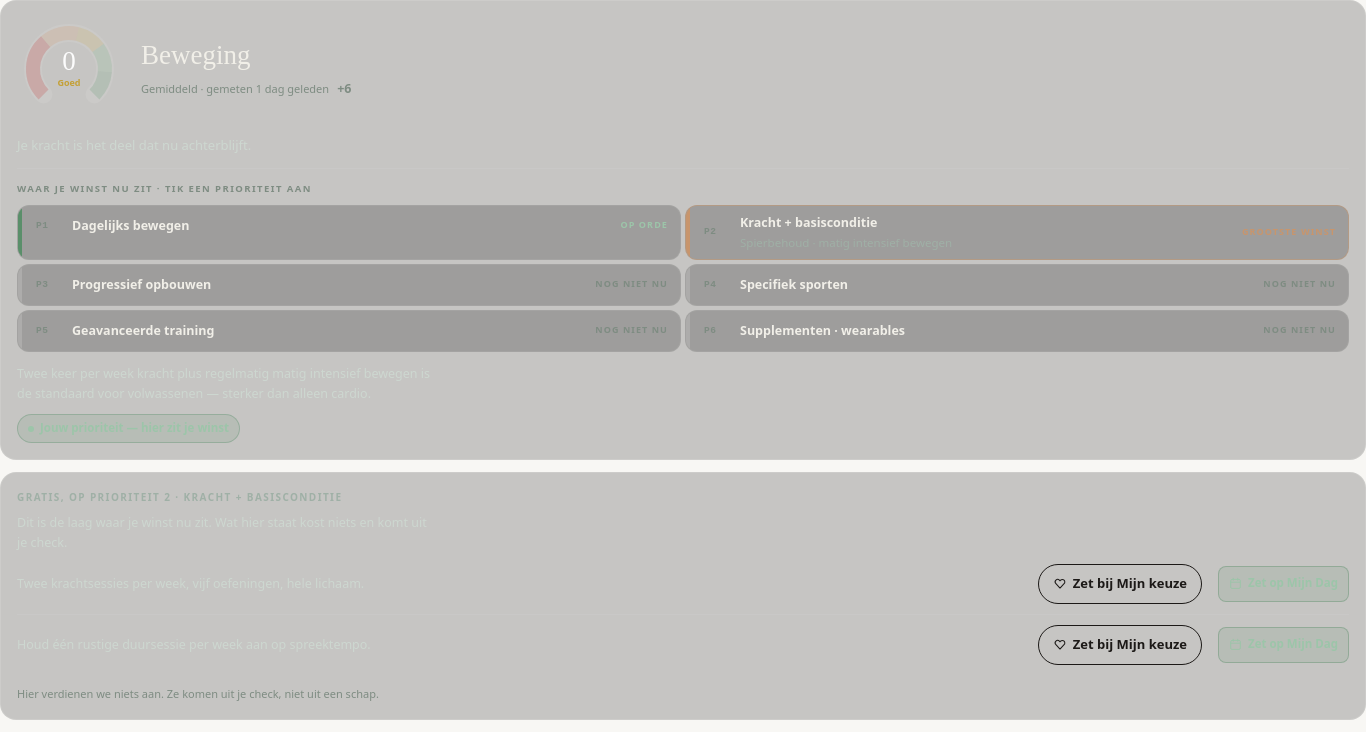
Test case: Contextkolom — zone 2: wat jij hier koos › toont alleen de keuzes van de laag die je leest
The image size is (1366, 732).
Click the 1st button "Zet bij Mijn keuze" at (1120, 584), box 1038,564 -> 1202,604
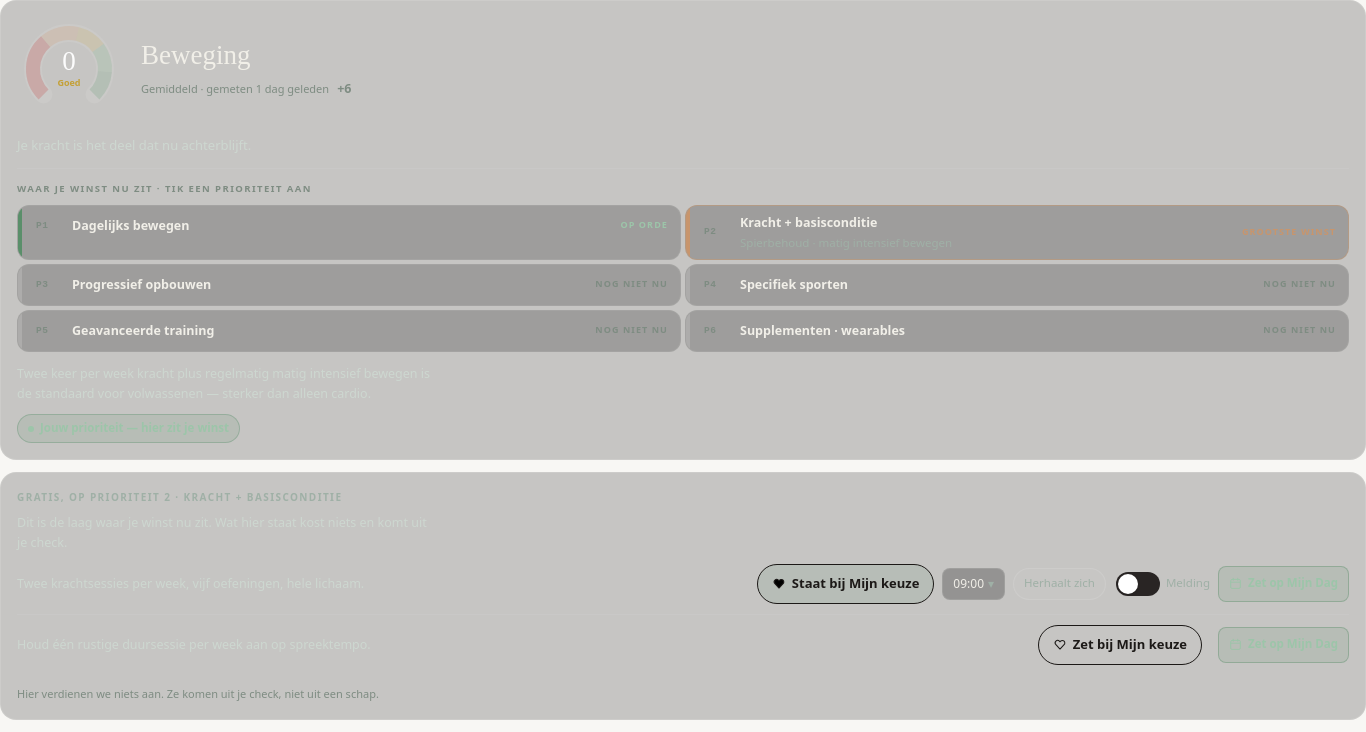
Click the button "P4 Specifiek sporten Nog niet nu" at (794, 284), box 686,265 -> 1348,305
(page scrolled)
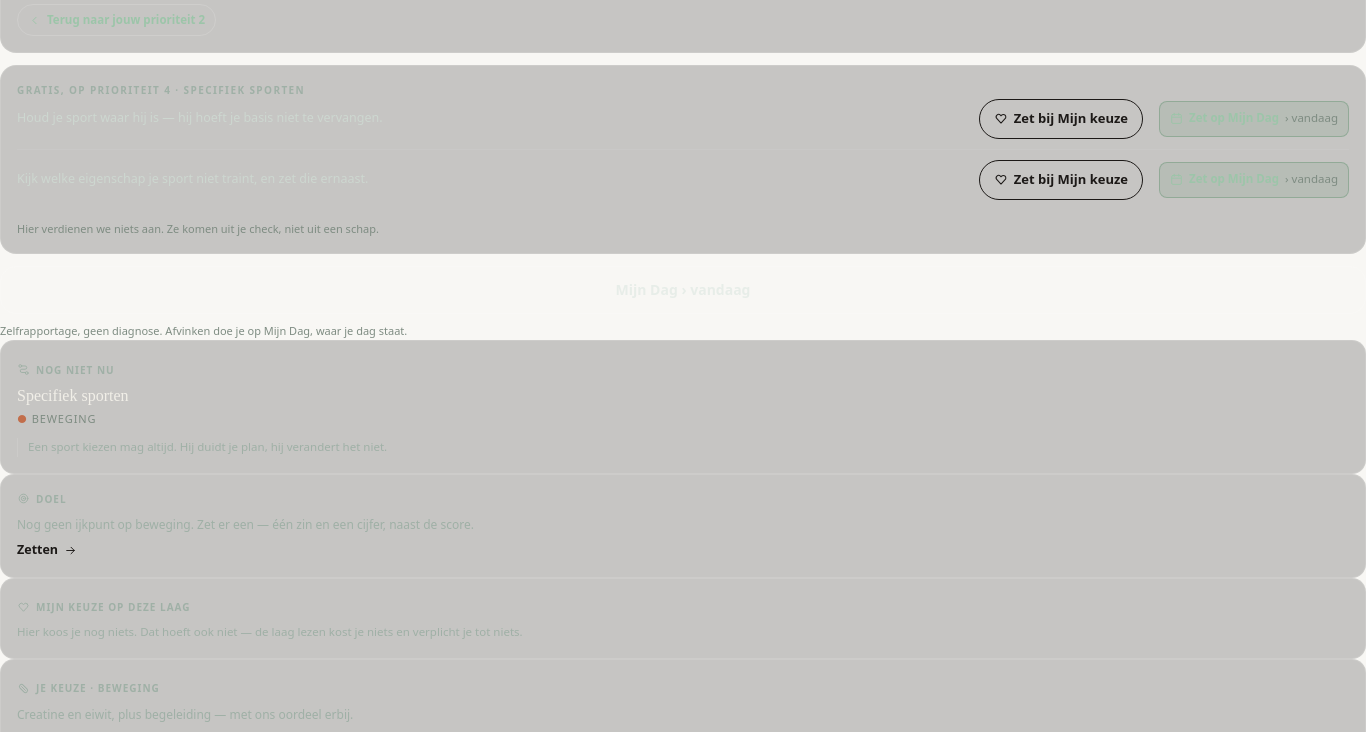
Now the element "Mijn keuze op deze laag" shows "Hier koos je nog niets", box 17,624 -> 523,639
